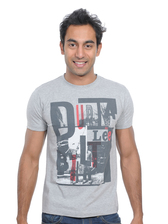clothoes: (24, 73, 137, 217)
